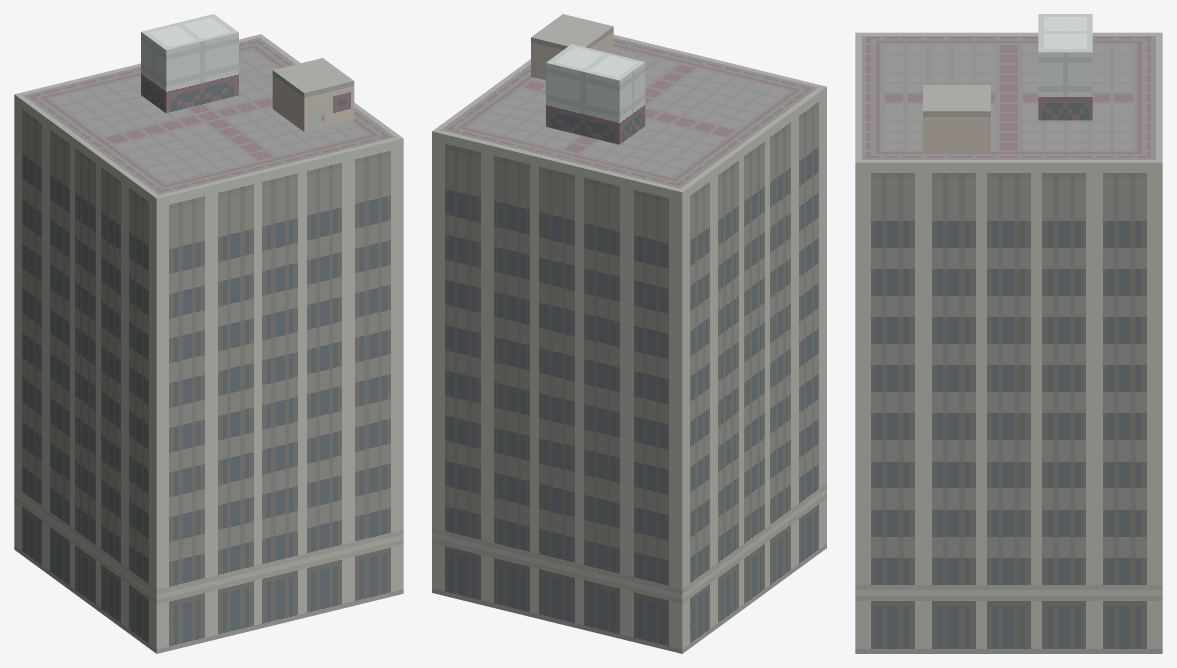
The model's file is 05ad_Shark_Building.glb.
3 renders of one model, left to right at view 1: azimuth 30°, elevation 25°; view 2: azimuth 150°, elevation 25°; view 3: azimuth 270°, elevation 25°, orthographic. The views are drawn at different scales.
Visible parts, largest first — view 1: part_0; view 2: part_0; view 3: part_0.
Boxes of the visible parts, box(x1,y1,x2,y2) form: part_0: box(14, 14, 403, 653); part_0: box(432, 14, 826, 653); part_0: box(855, 14, 1162, 653).
Bounding box in the file's own units: 15.25 × 30.62 × 15.25.
Materials: 1 (1 with a texture image).
